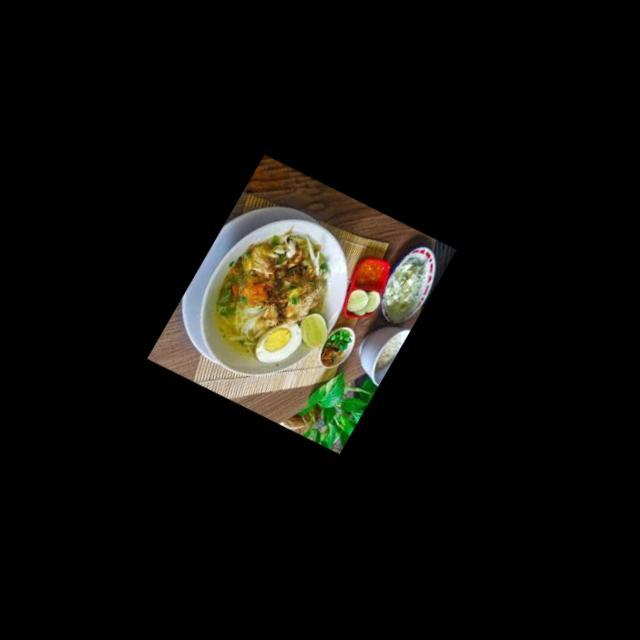Soto: (214, 226, 329, 363)
